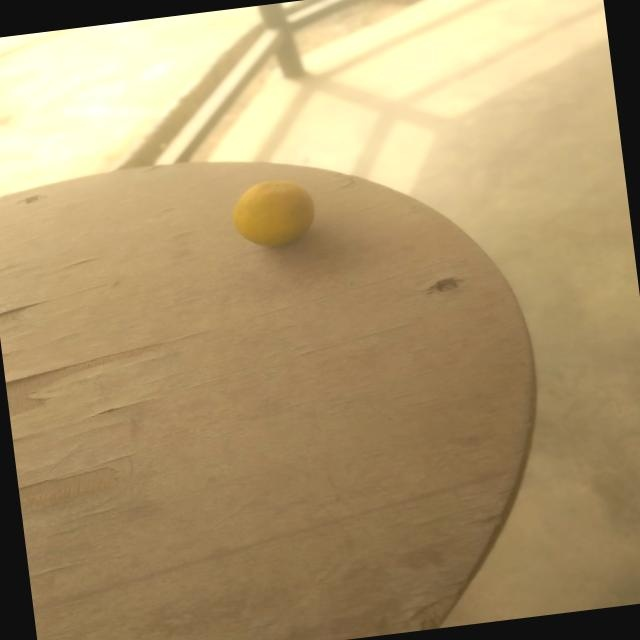agrume: (165, 162, 367, 290)
